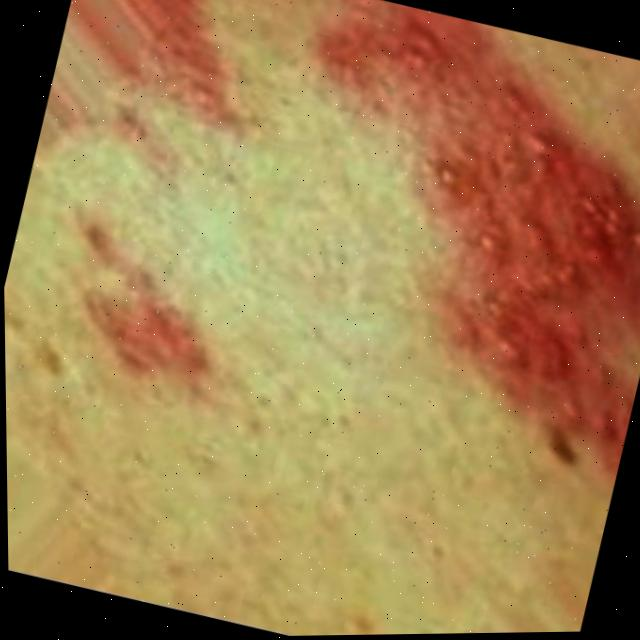Shingles: (256, 0, 640, 471), (81, 263, 229, 397), (136, 13, 252, 151)
